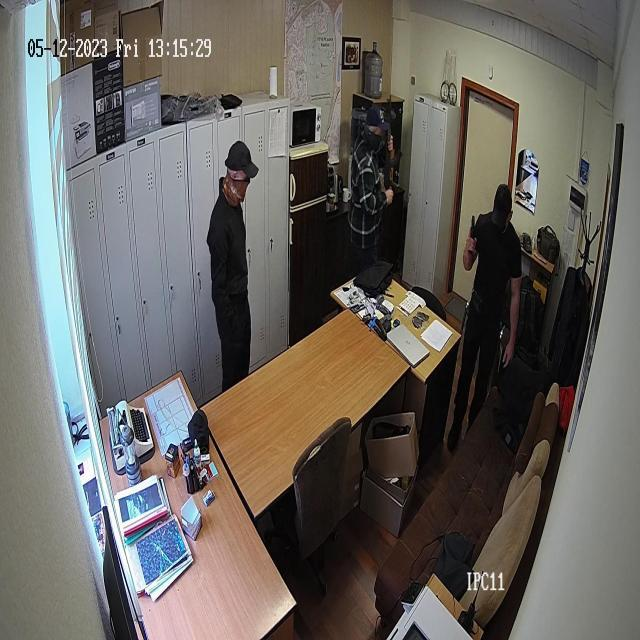pistol: (378, 94, 402, 202), (468, 208, 480, 263)
